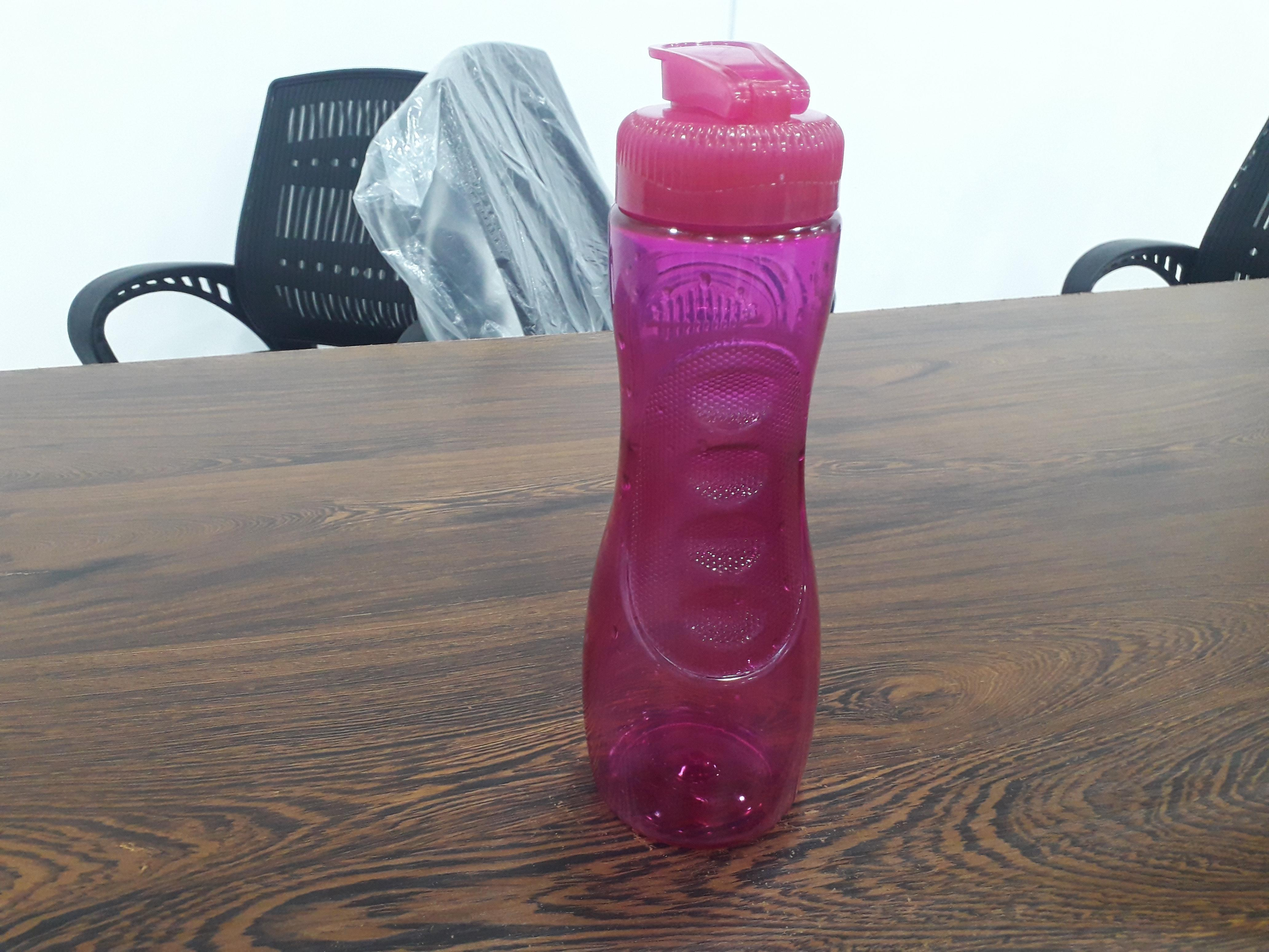gym bottle: (577, 38, 847, 856)
